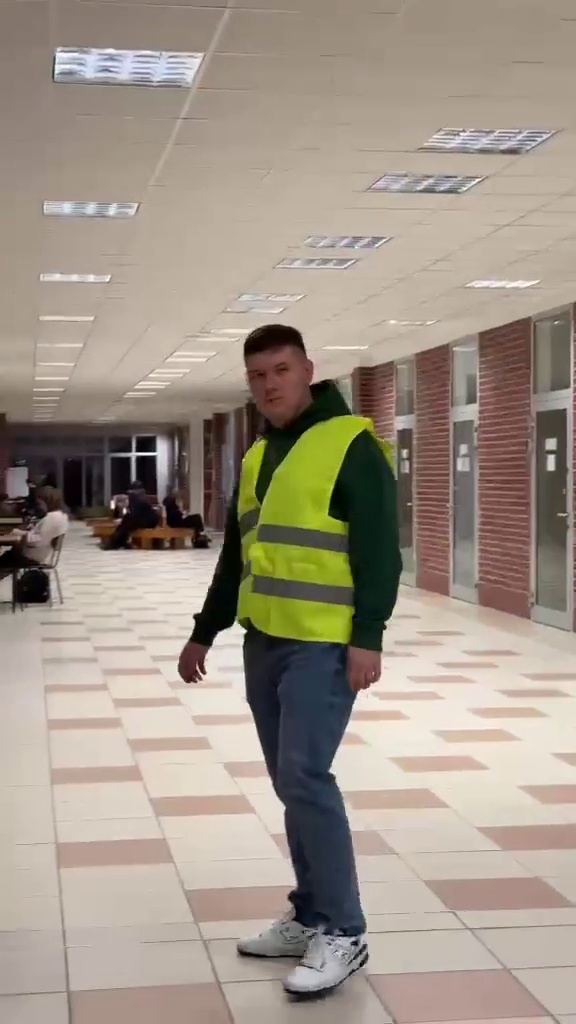vest: (202, 312, 417, 996)
